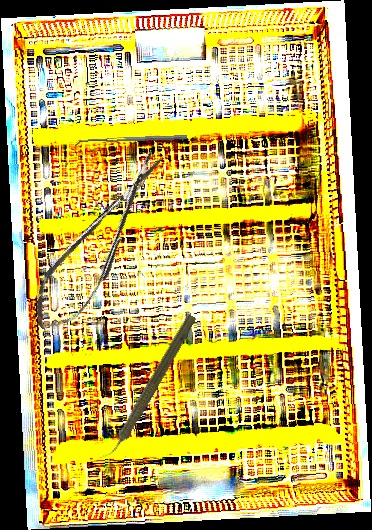Handpiece: (98, 310, 199, 467)
Micro Scissor: (18, 144, 182, 342)
Spatula Surgical: (74, 135, 188, 147)
